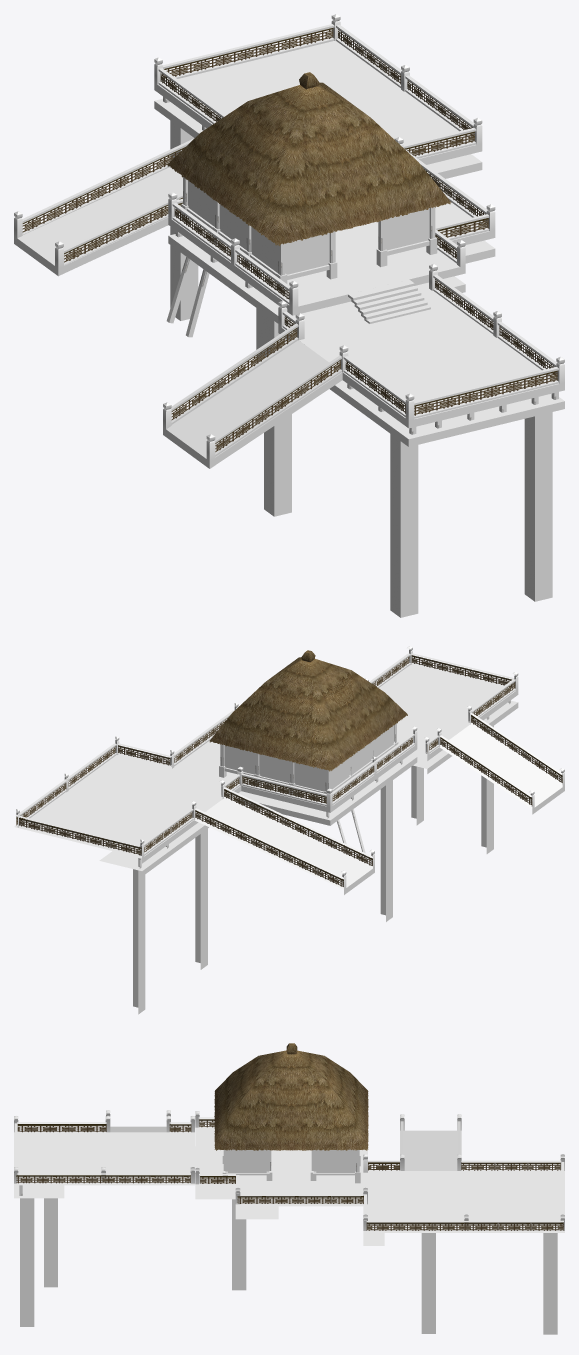
The model's file is M5_B_maowu001.FBX.
The picture shows the model from 3 angles, top to bottom: view 1: azimuth 30°, elevation 25°; view 2: azimuth 150°, elevation 25°; view 3: azimuth 270°, elevation 25°; orthographic projection. The views are drawn at different scales.
Visible parts, largest first — view 1: M5_B_maowu001, M5_B_maowu002; view 2: M5_B_maowu001, M5_B_maowu002; view 3: M5_B_maowu001, M5_B_maowu002.
Boxes of the visible parts, x1,y1,x2,y2 form: M5_B_maowu001: (14, 14, 564, 617); M5_B_maowu002: (167, 72, 451, 275); M5_B_maowu001: (14, 646, 564, 1014); M5_B_maowu002: (209, 650, 407, 789); M5_B_maowu001: (14, 1110, 564, 1334); M5_B_maowu002: (214, 1043, 368, 1150).
Size of the model in its own units: 2056 by 1682 by 3082.
